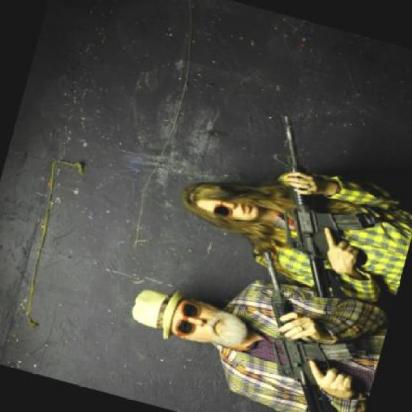Gun: (236, 112, 402, 308), (215, 246, 386, 412)
